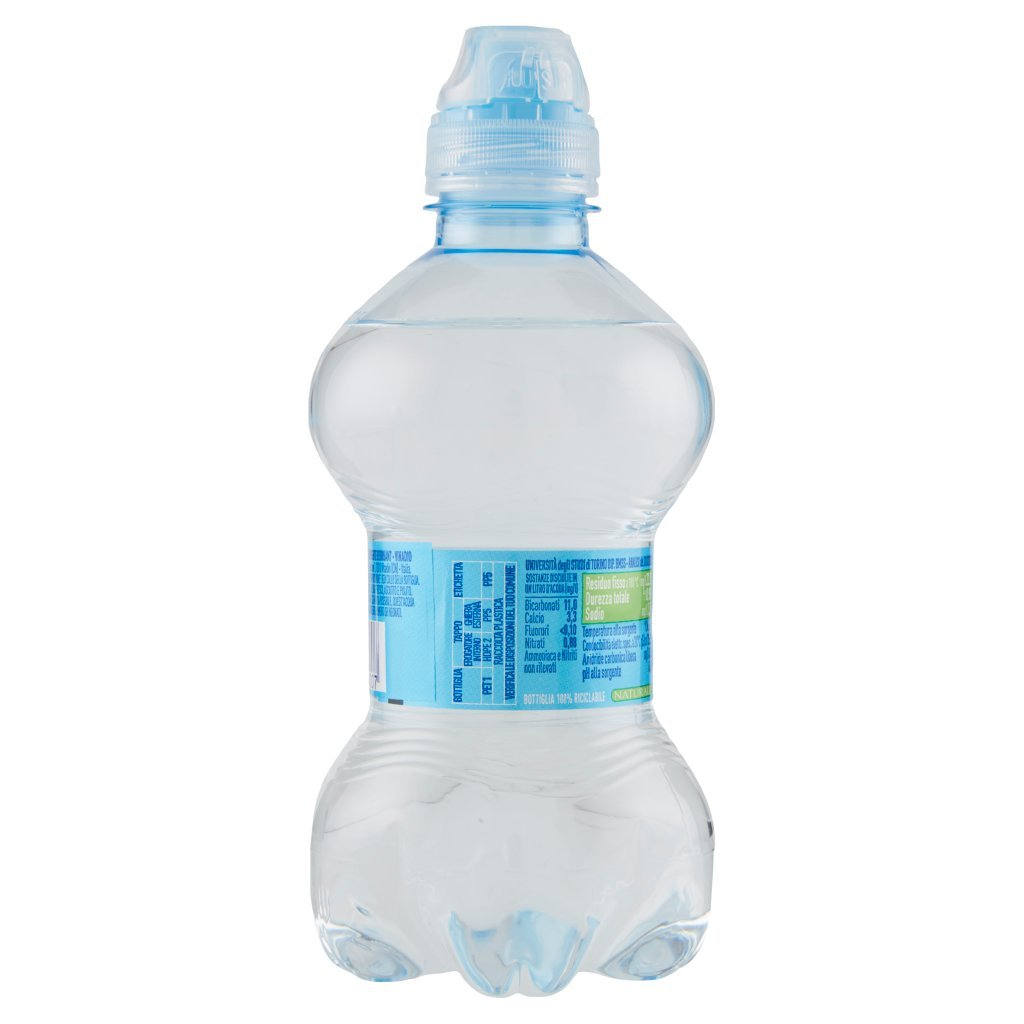PlasticBottle: (296, 21, 739, 991)
